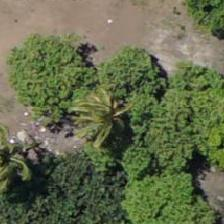coconut_tree: (59, 70, 149, 160)
